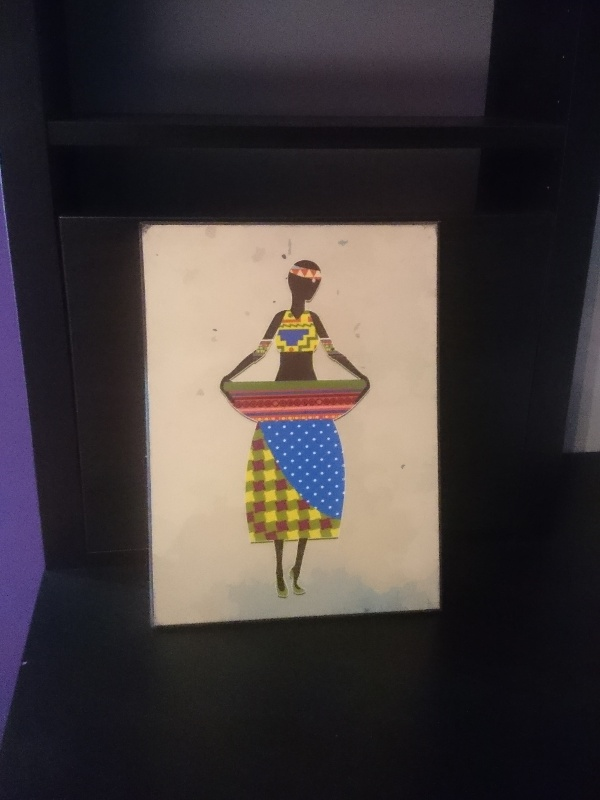my image: (148, 225, 438, 627)
